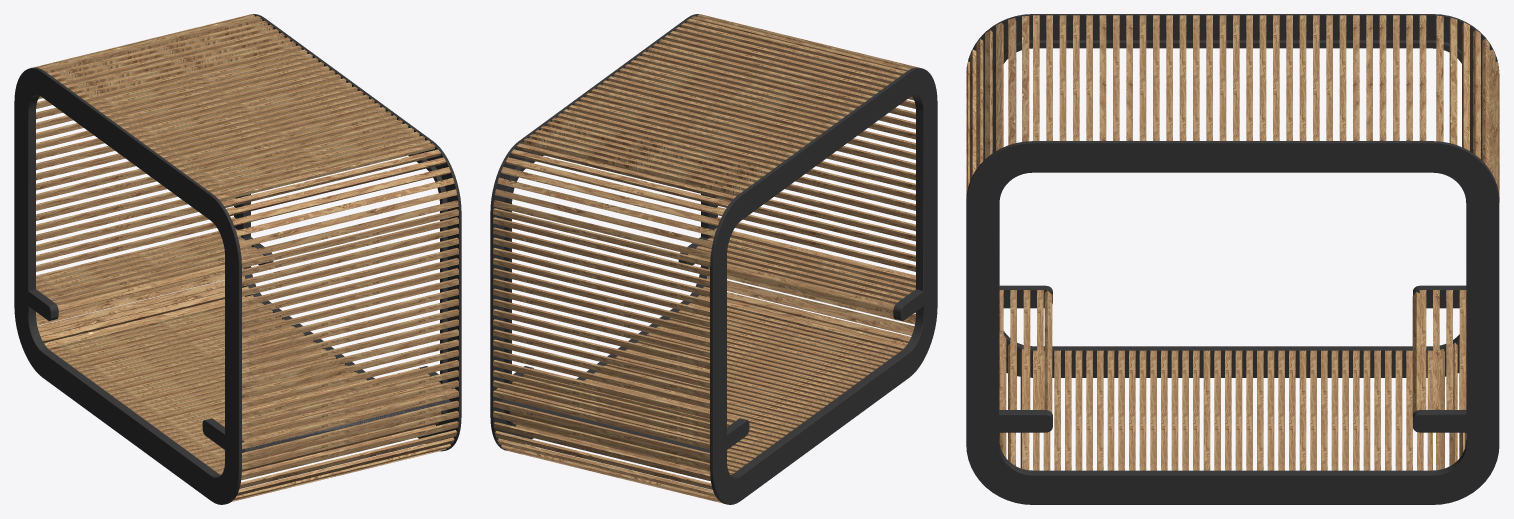
3 renders of one model, left to right at view 1: azimuth 30°, elevation 25°; view 2: azimuth 150°, elevation 25°; view 3: azimuth 270°, elevation 25°, orthographic. The views are drawn at different scales.
Parts seen in each view (by area): view 1: Mesh166_Color_M05_0, Mesh166_BackColor_0, Group132, Group127, Group126, Group137, Group90, Group79, Group97, Group67, Group75, Group84 (+108 smaller); view 2: Mesh166_Color_M05_0, Mesh166_BackColor_0, Group142, Group10, Group154, Group139, Group32, Group69, Group24, Group30, Group76, Group82 (+108 smaller); view 3: Mesh166_Color_M05_0, Mesh166_BackColor_0, Group134, Group150, Group164, Group142, Group149, Group139, Group99, Group105, Group107, Group109 (+79 smaller).
Boxes of the visible parts, x1,y1,x2,y2 form: Mesh166_Color_M05_0: [14, 14, 461, 504]; Mesh166_BackColor_0: [14, 14, 461, 504]; Group132: [227, 157, 445, 216]; Group127: [241, 421, 458, 480]; Group126: [232, 167, 450, 225]; Group137: [241, 200, 458, 259]; Group90: [241, 209, 458, 268]; Group79: [242, 288, 458, 347]; Group97: [242, 329, 458, 388]; Group67: [242, 400, 458, 459]; Group75: [242, 278, 458, 337]; Group84: [242, 390, 458, 449]; Mesh166_Color_M05_0: [490, 14, 937, 504]; Mesh166_BackColor_0: [490, 15, 937, 504]; Group142: [505, 157, 724, 215]; Group10: [493, 422, 710, 481]; Group154: [493, 200, 710, 259]; Group139: [501, 167, 719, 225]; Group32: [493, 329, 709, 388]; Group69: [493, 288, 709, 347]; Group24: [493, 390, 709, 449]; Group30: [493, 400, 709, 459]; Group76: [493, 217, 709, 276]; Group82: [493, 278, 709, 337]; Mesh166_Color_M05_0: [966, 14, 1499, 504]; Mesh166_BackColor_0: [966, 14, 1499, 504]; Group134: [1008, 18, 1016, 145]; Group150: [1449, 18, 1457, 144]; Group164: [1044, 290, 1052, 412]; Group142: [1462, 22, 1469, 151]; Group149: [1436, 15, 1443, 141]; Group139: [1473, 29, 1480, 159]; Group99: [1099, 15, 1106, 140]; Group105: [1059, 15, 1066, 140]; Group107: [1139, 15, 1146, 140]; Group109: [1299, 15, 1306, 140].
Size of the model in its own units: 2.29 by 3 by 4.
4 materials, 1 textured.
